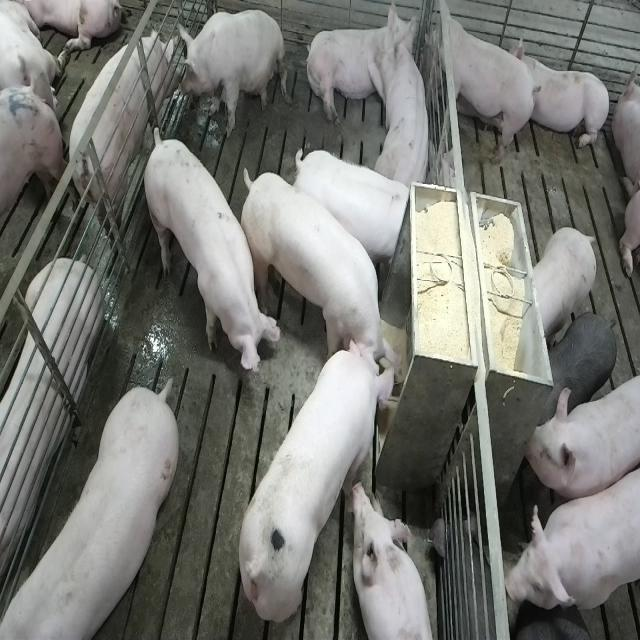Feeding: (236, 333, 400, 624), (234, 158, 400, 383)
Sitting: (177, 8, 286, 138), (375, 5, 433, 191)
Standing: (0, 382, 176, 640), (143, 127, 281, 386), (59, 32, 178, 254), (504, 458, 638, 616), (430, 3, 540, 166), (290, 145, 413, 273), (523, 370, 637, 502), (540, 310, 617, 422), (530, 227, 598, 344), (509, 606, 608, 640)
Sternal_lying: (0, 262, 100, 608), (352, 481, 438, 640), (520, 40, 612, 155)
